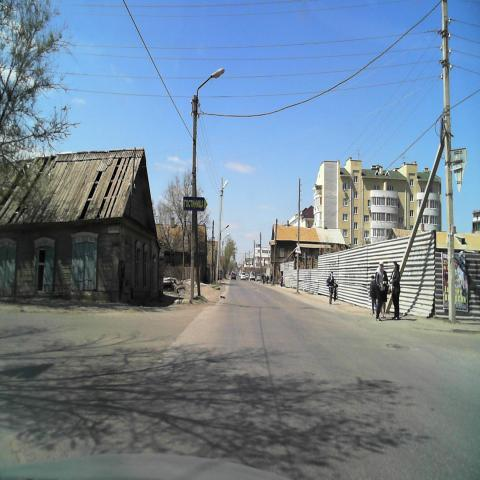1_23: (294, 243, 302, 253)
